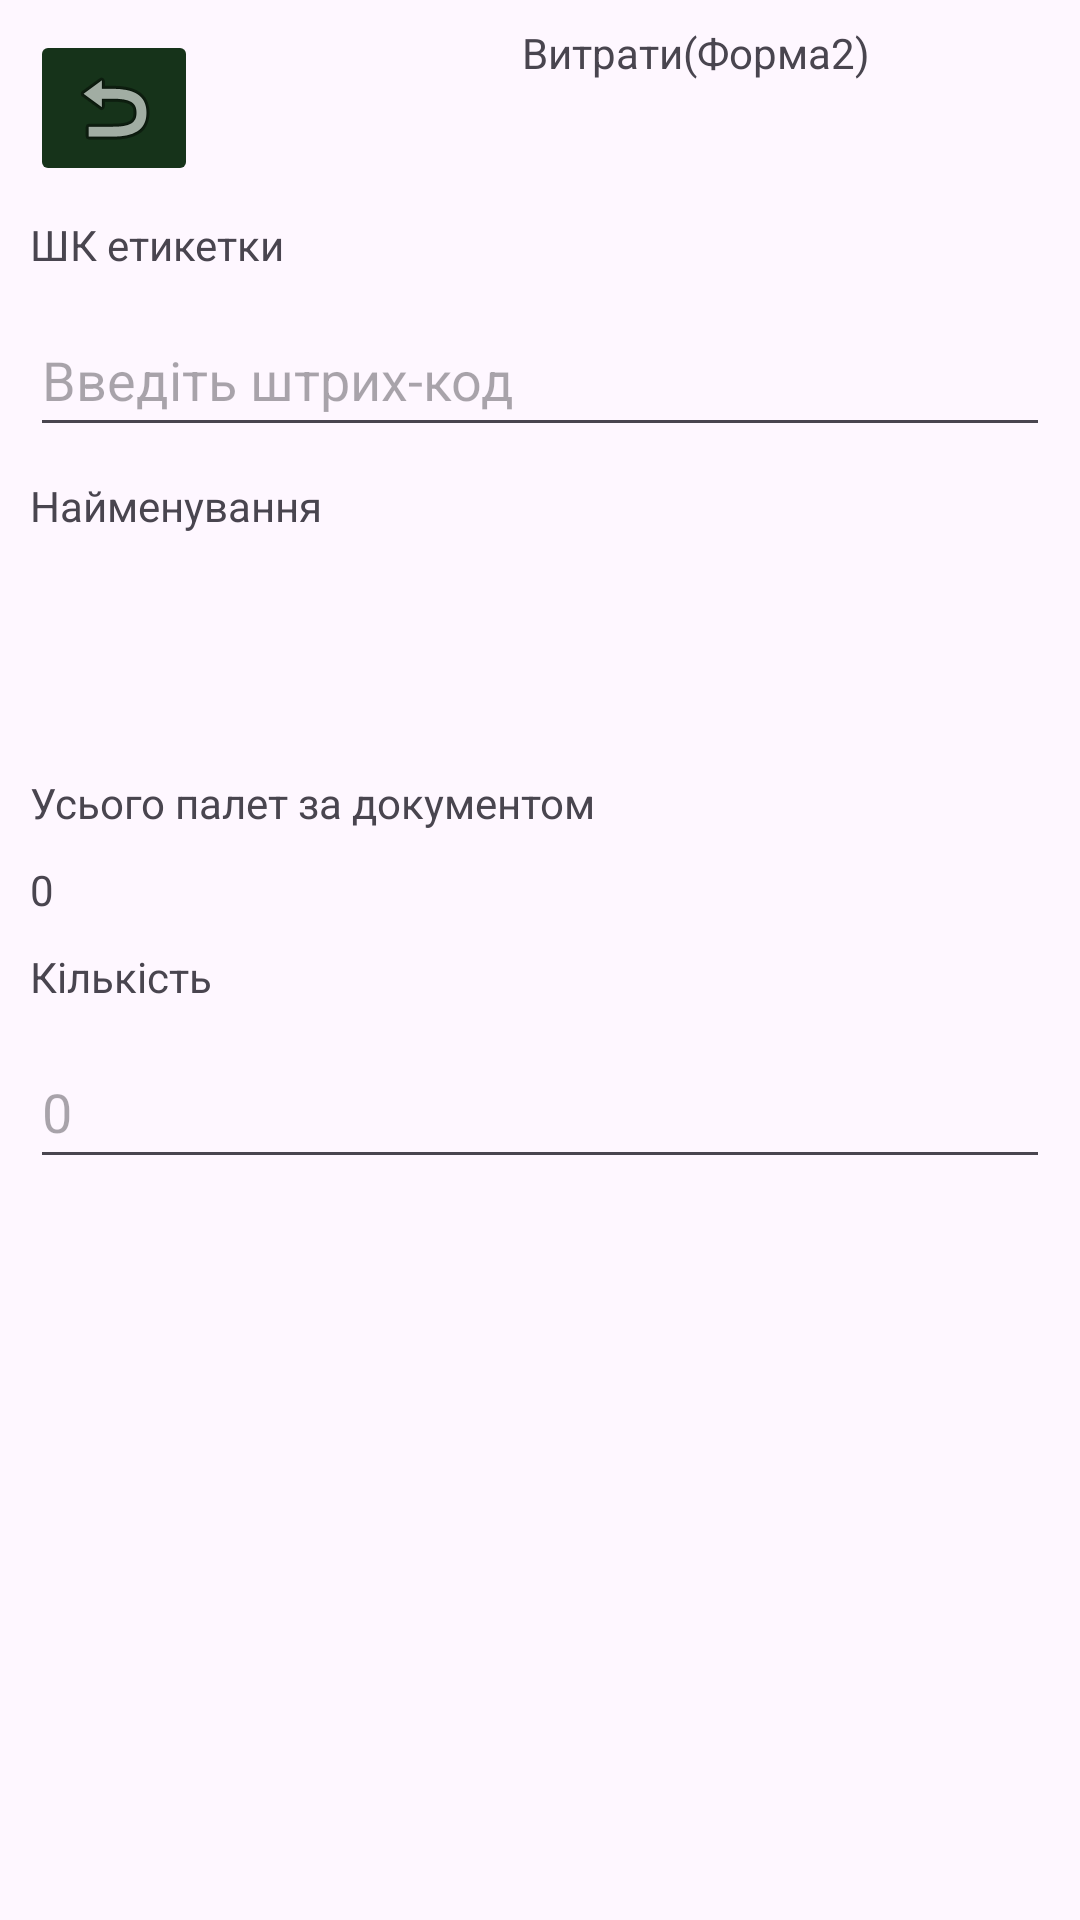

Where icons sit on this 1080×1920 app screen, as [left=x1, top=y1, right=x2, bottom=y2]:
На головну: [left=42, top=48, right=186, bottom=168]
